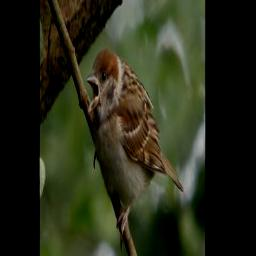Sparrow: (86, 45, 184, 251)
